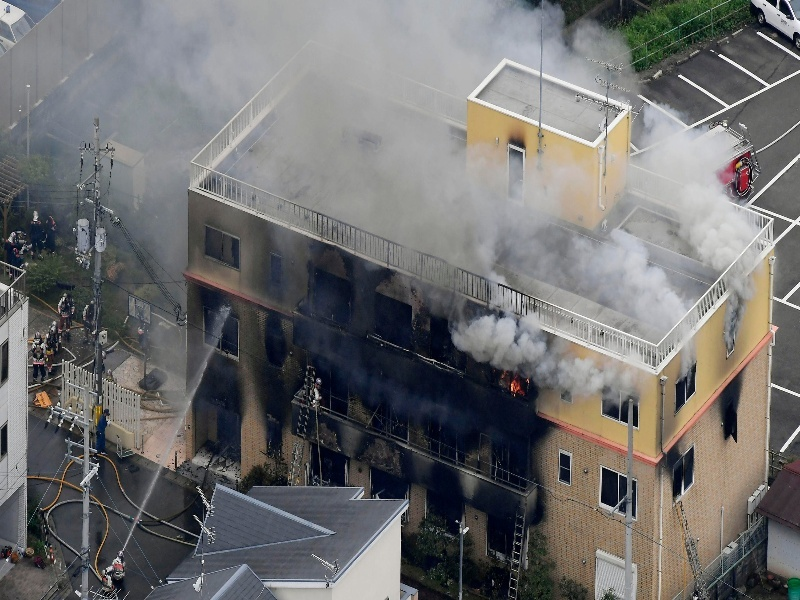smoke: (121, 1, 748, 370)
